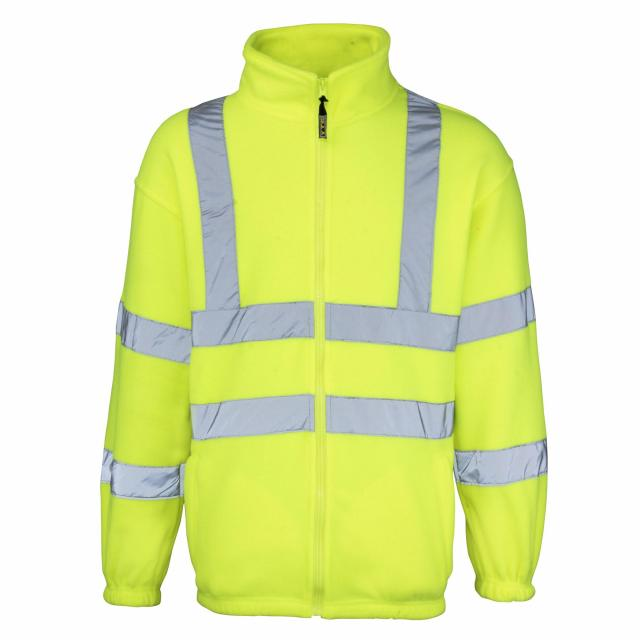Reflective-Jacket: (96, 28, 572, 640)
